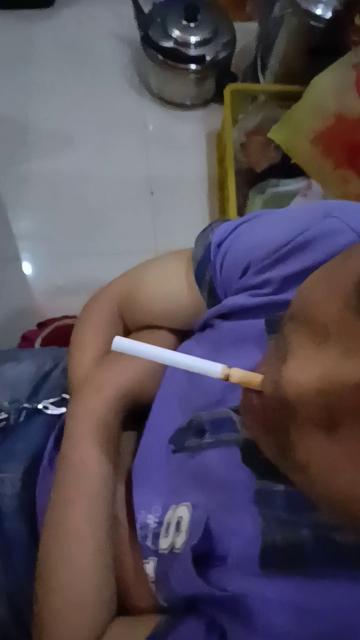Cigarette: (111, 334, 267, 391)
